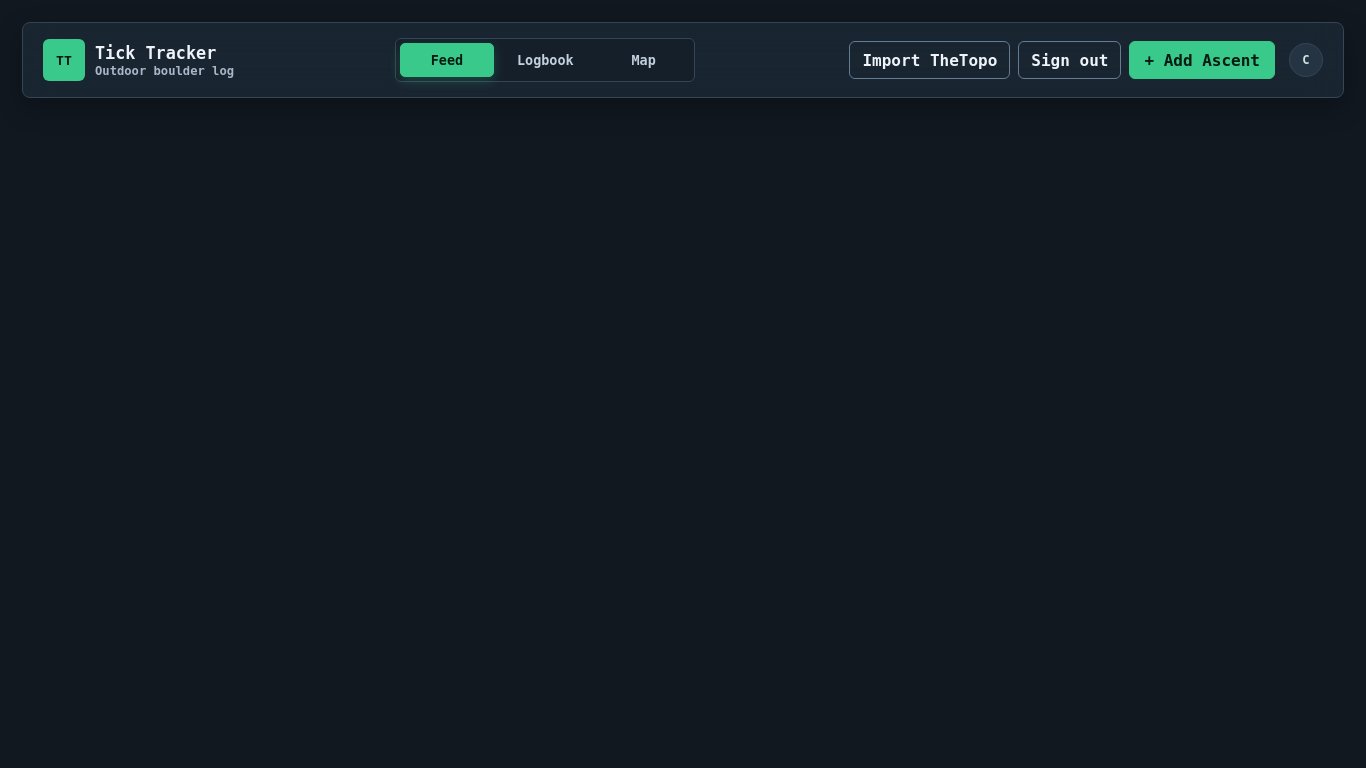
Test case: saving an ascent refreshes the visible feed
This screenshot has width=1366, height=768.
Click the button "+ Add Ascent".
click(1202, 60)  # box [1129, 41, 1275, 79]
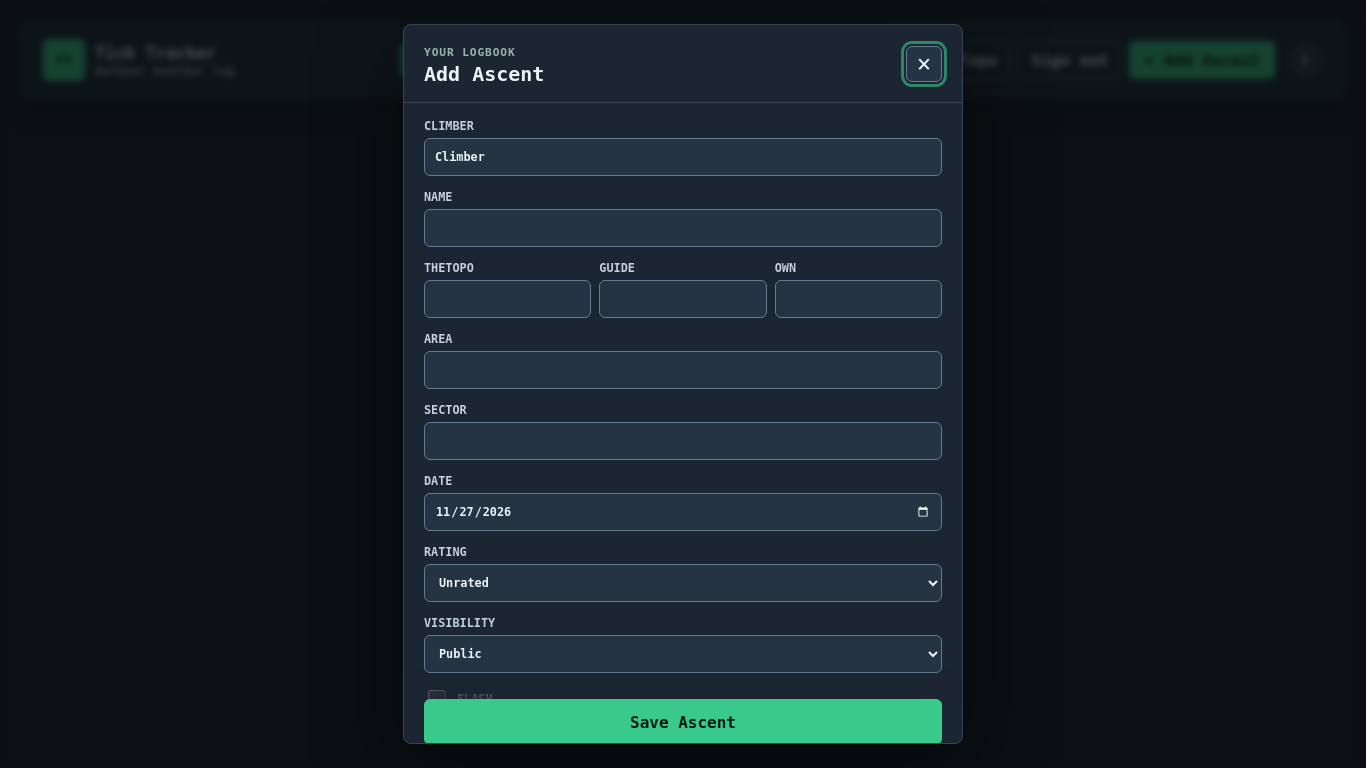
Type "New Problem" into the field labelled "Name".
click(683, 228); type("New Problem")  # box [424, 209, 942, 247]
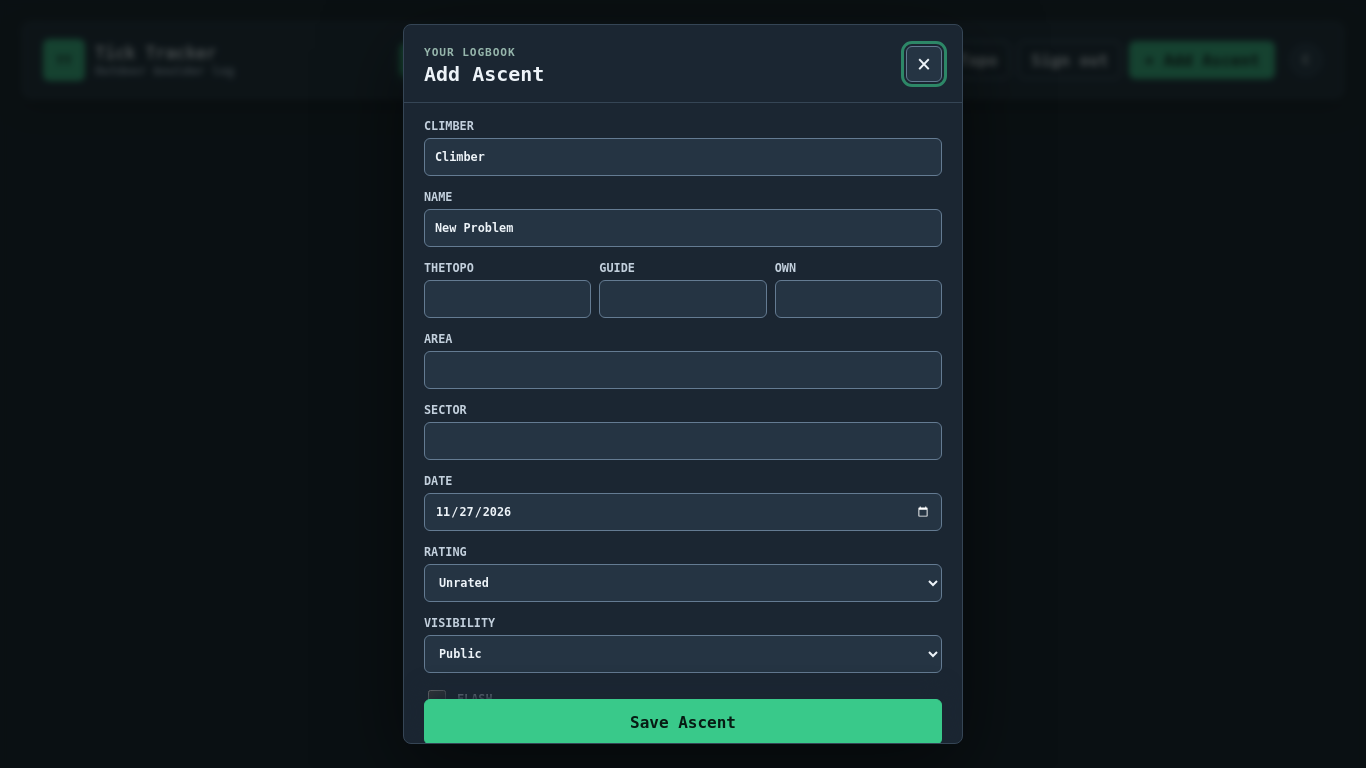
Type "New Area" into the field labelled "Area".
click(683, 370); type("New Area")  # box [424, 351, 942, 389]
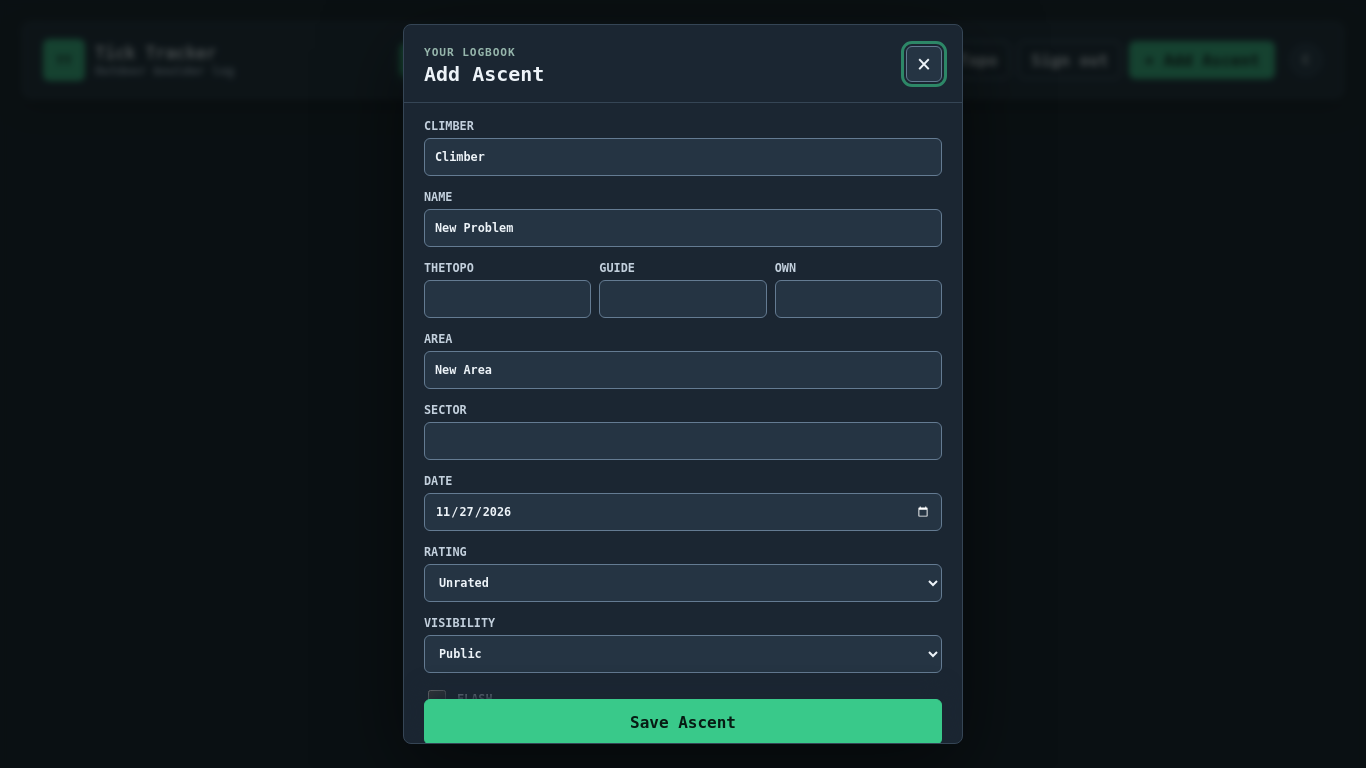
Click the button "Save Ascent".
click(683, 722)  # box [424, 699, 942, 745]
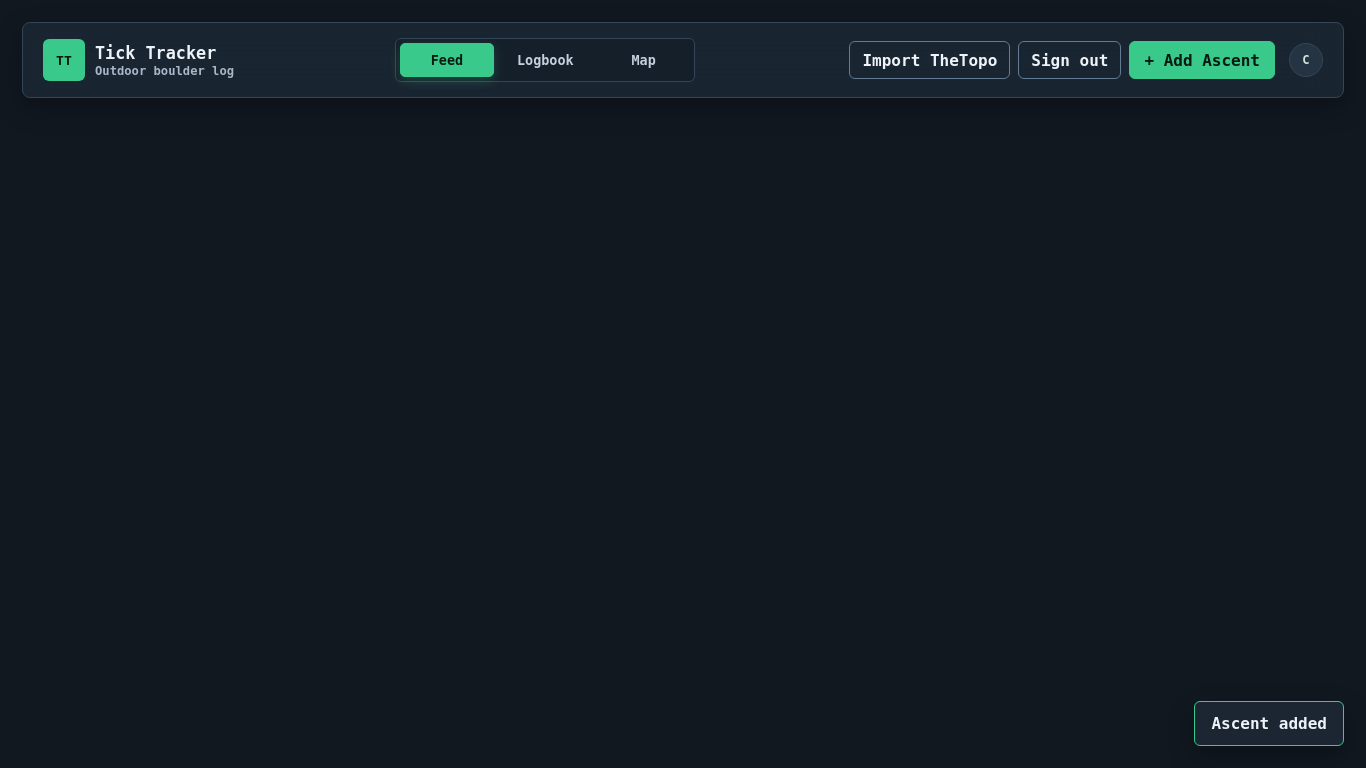
Now the message reads "Ascent added", box [1211, 714, 1327, 733]
